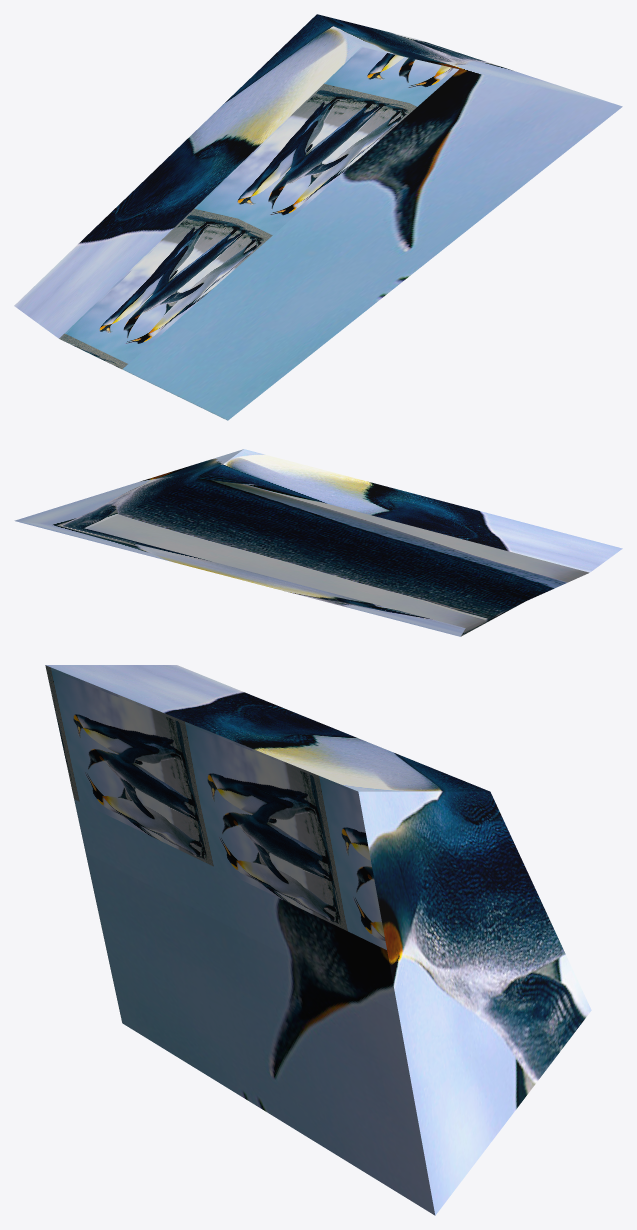
3 views of the same model, one above another, from view 1: azimuth 30°, elevation 25°; view 2: azimuth 150°, elevation 25°; view 3: azimuth 270°, elevation 25° (orthographic). The views are drawn at different scales.
Visible parts, largest first — view 1: Cube; view 2: Cube, Cube.001; view 3: Cube.
Part boxes in pixels (x1=…): Cube: x1=14, y1=14, x2=622, y2=420; Cube: x1=14, y1=449, x2=622, y2=636; Cube.001: x1=126, y1=473, x2=589, y2=610; Cube: x1=45, y1=665, x2=591, y2=1215.
Bounding box in the file's own units: 8.19 × 2.95 × 3.79.
Materials: 1 (1 with a texture image).
